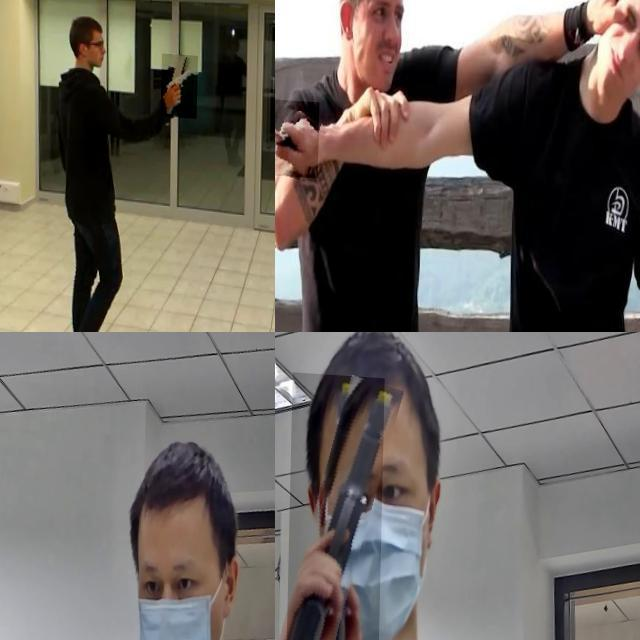-: (275, 94, 321, 174)
gun-knife-thesis - v11 Yolov5 augmented: (287, 368, 385, 640), (0, 463, 33, 637), (162, 49, 199, 114)
